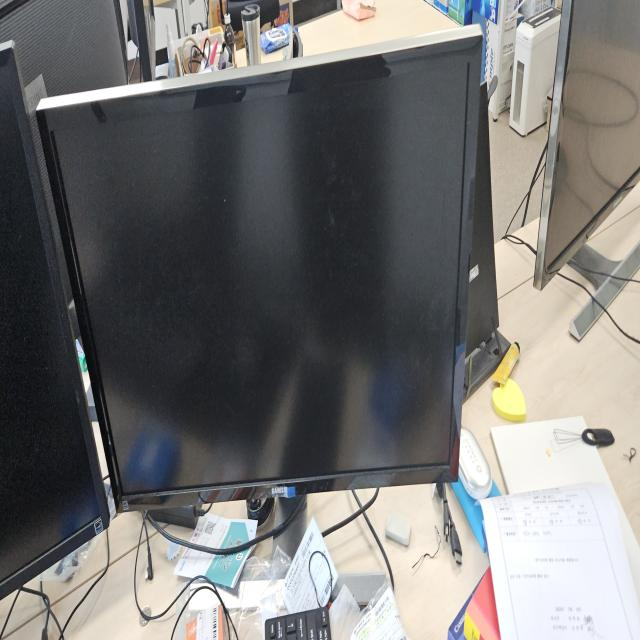Keyboard: (263, 603, 333, 638)
Monitor: (34, 24, 487, 526)
